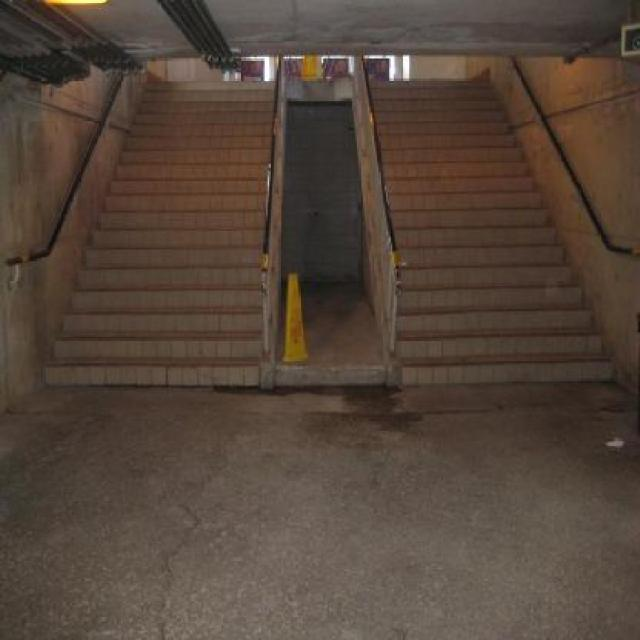stair: (370, 79, 616, 386), (46, 77, 277, 386)
